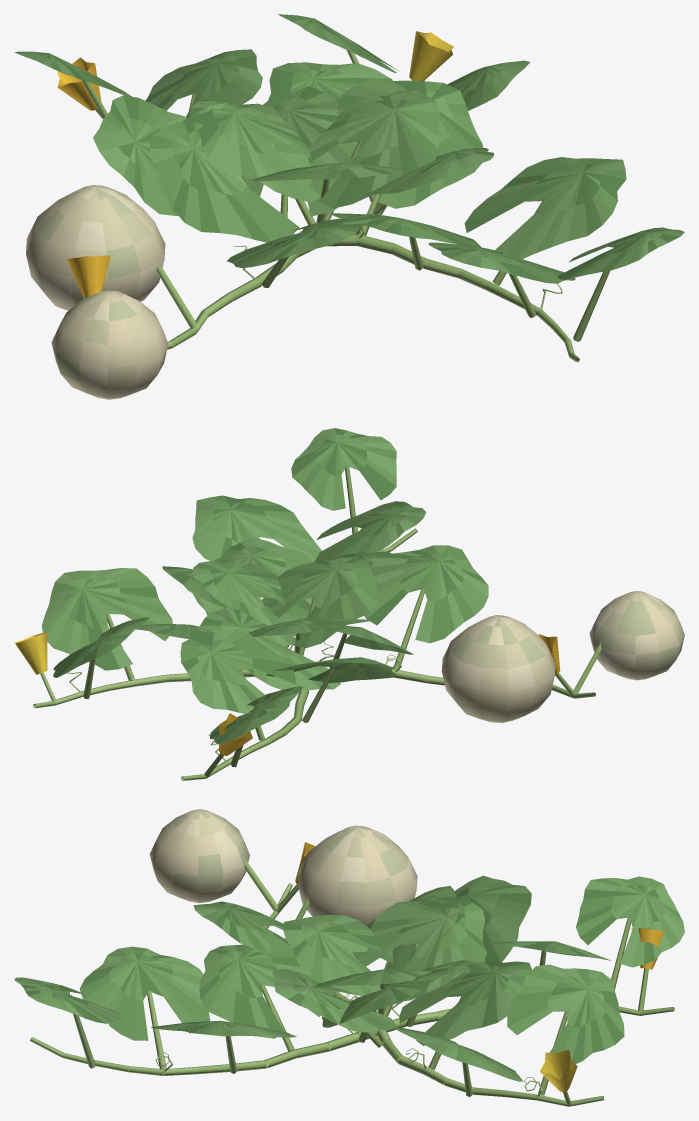
The model's file is melon_brode_mur.glb.
3 views of the same model, one above another, from view 1: azimuth 30°, elevation 25°; view 2: azimuth 150°, elevation 25°; view 3: azimuth 270°, elevation 25° (orthographic). The views are drawn at different scales.
Parts seen in each view (by area): view 1: Melon_Feuilles, Melon_Fruits, Melon_Tiges, Melon_Fleurs; view 2: Melon_Feuilles, Melon_Fruits, Melon_Tiges, Melon_Fleurs; view 3: Melon_Feuilles, Melon_Fruits, Melon_Tiges, Melon_Fleurs.
Boxes of the visible parts, bbox=[...] form: Melon_Feuilles: bbox=[14, 14, 684, 283]; Melon_Fruits: bbox=[26, 185, 168, 399]; Melon_Tiges: bbox=[81, 50, 616, 362]; Melon_Fleurs: bbox=[57, 31, 453, 298]; Melon_Feuilles: bbox=[41, 428, 488, 744]; Melon_Fruits: bbox=[441, 591, 684, 722]; Melon_Tiges: bbox=[33, 466, 601, 780]; Melon_Fleurs: bbox=[14, 632, 560, 755]; Melon_Feuilles: bbox=[14, 875, 684, 1081]; Melon_Fruits: bbox=[149, 809, 417, 926]; Melon_Tiges: bbox=[30, 857, 674, 1106]; Melon_Fleurs: bbox=[295, 842, 664, 1091].
Size of the model in its own units: 1.49 by 0.297 by 1.64.
